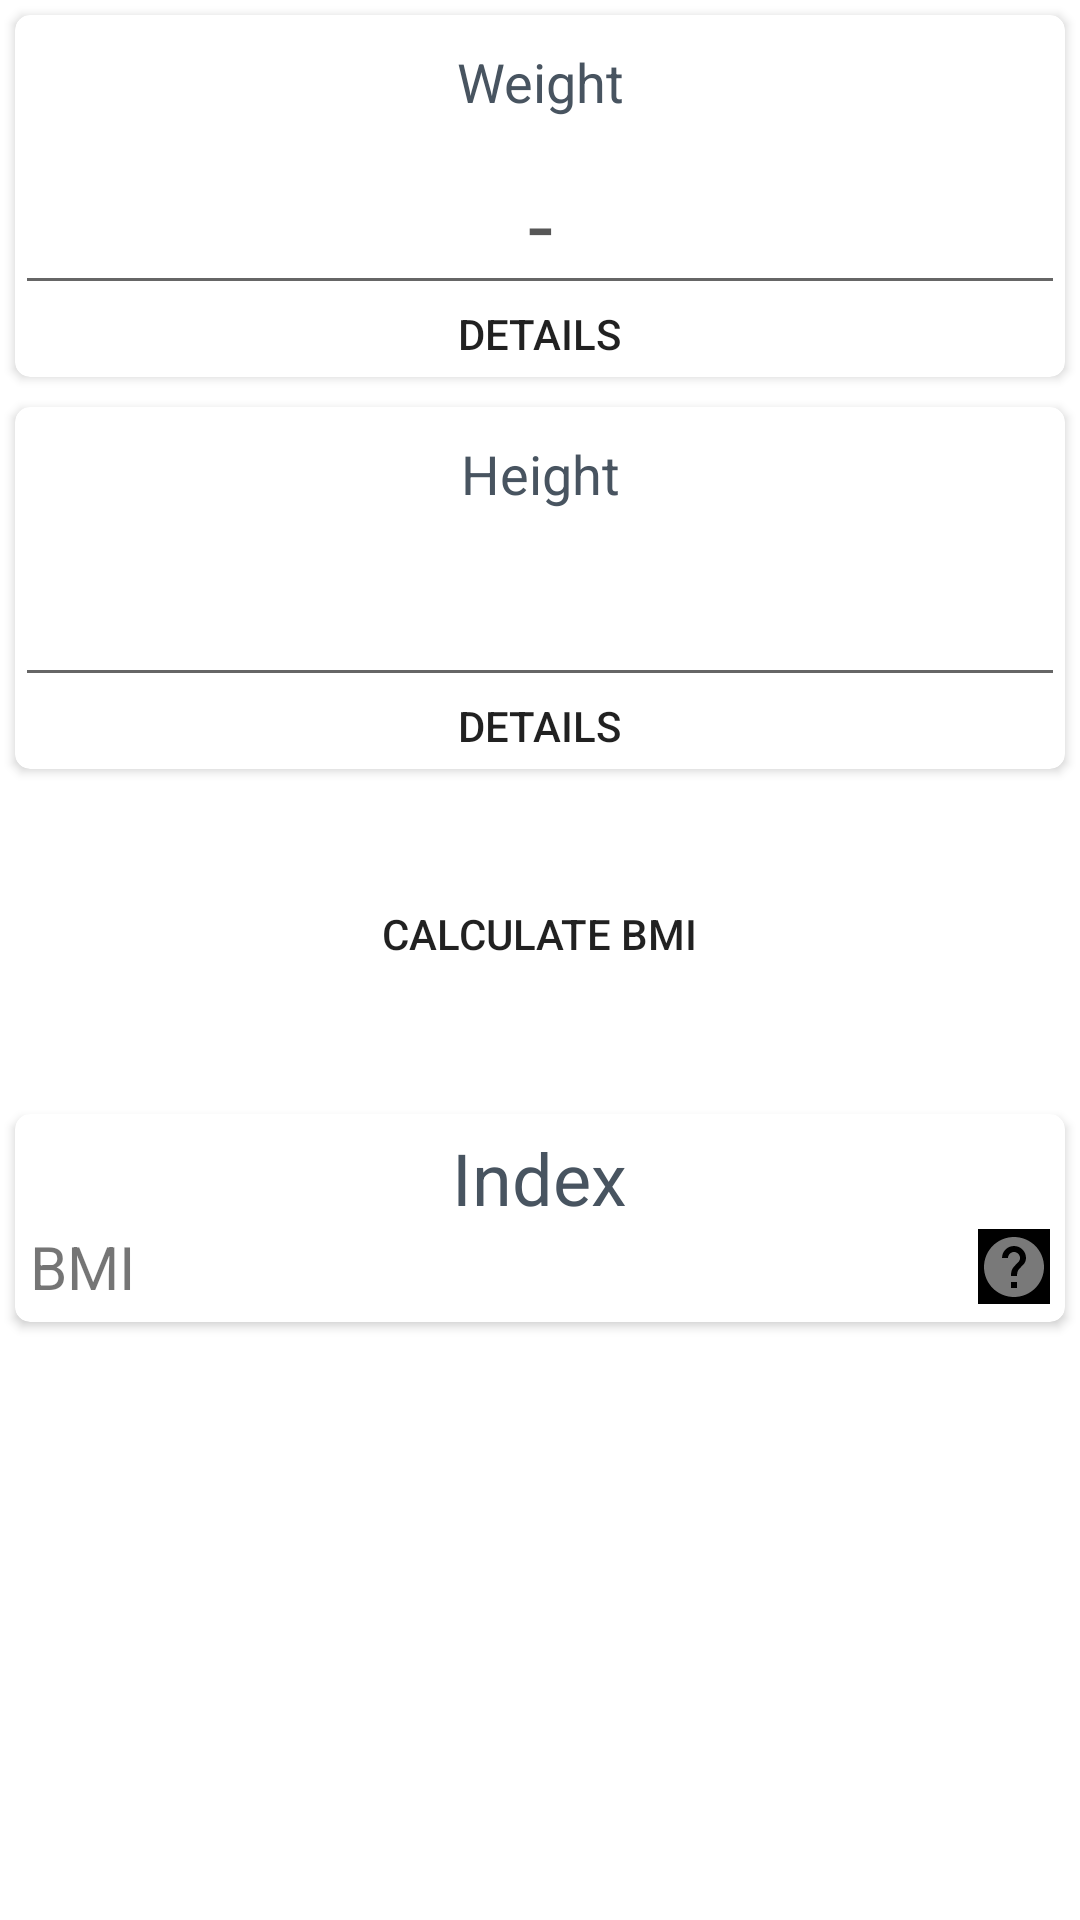

Icon click points for this 1080 x 1920 phone screenshot, format [x,y]:
help: [1014,1266]
